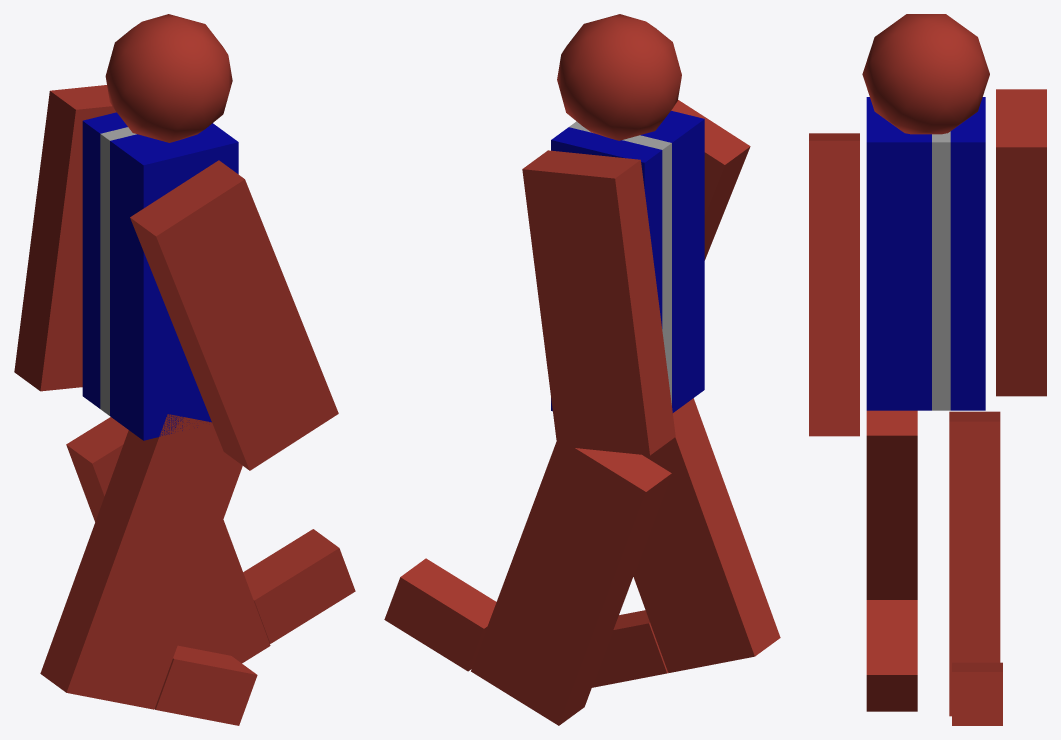
File: player_000066.obj
3 renders of one model, left to right at view 1: azimuth 30°, elevation 25°; view 2: azimuth 150°, elevation 25°; view 3: azimuth 270°, elevation 25°, orthographic. The views are drawn at different scales.
Visible parts, largest first — view 1: Cube.005, Cube.001, Cube, Cube.006, Icosphere, Cube.002, Cube.004, Cube.003; view 2: Cube.006, Cube.002, Cube.001, Cube, Icosphere, Cube.004, Cube.005, Cube.003; view 3: Cube, Cube.006, Cube.005, Cube.002, Icosphere, Cube.001, Cube.003, Cube.004.
Boxes of the visible parts, x1=… form: Cube.005: x1=130, y1=160, x2=338, y2=470; Cube.001: x1=40, y1=414, x2=242, y2=709; Cube: x1=82, y1=112, x2=238, y2=440; Cube.006: x1=14, y1=85, x2=116, y2=391; Icosphere: x1=105, y1=14, x2=232, y2=142; Cube.002: x1=66, y1=417, x2=270, y2=663; Cube.004: x1=243, y1=529, x2=355, y2=643; Cube.003: x1=155, y1=645, x2=257, y2=725; Cube.006: x1=522, y1=150, x2=675, y2=455; Cube.002: x1=471, y1=442, x2=671, y2=725; Cube.001: x1=633, y1=398, x2=780, y2=673; Cube: x1=551, y1=110, x2=704, y2=412; Icosphere: x1=557, y1=14, x2=681, y2=140; Cube.004: x1=384, y1=558, x2=496, y2=671; Cube.005: x1=671, y1=100, x2=750, y2=260; Cube.003: x1=592, y1=610, x2=667, y2=687; Cube: x1=866, y1=97, x2=985, y2=410; Cube.006: x1=996, y1=89, x2=1046, y2=396; Cube.005: x1=809, y1=133, x2=859, y2=436; Cube.002: x1=949, y1=411, x2=1000, y2=716; Icosphere: x1=862, y1=14, x2=989, y2=134; Cube.001: x1=866, y1=410, x2=917, y2=599; Cube.003: x1=866, y1=600, x2=917, y2=711; Cube.004: x1=952, y1=662, x2=1002, y2=725.
Bounding box in the file's own units: 1.44 × 2.88 × 0.9137.
